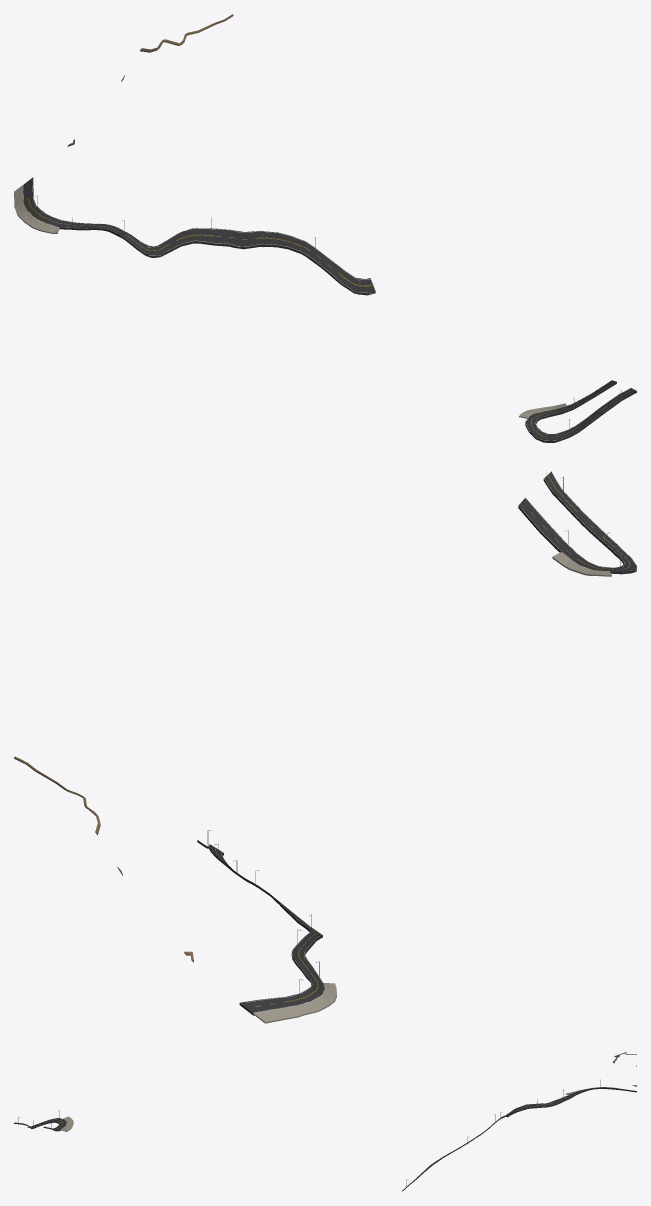
3 renders of one model, top to bottom at view 1: azimuth 30°, elevation 25°; view 2: azimuth 150°, elevation 25°; view 3: azimuth 270°, elevation 25°, orthographic. The views are drawn at different scales.
Bounding box in the file's own units: 158 × 119 × 513.
